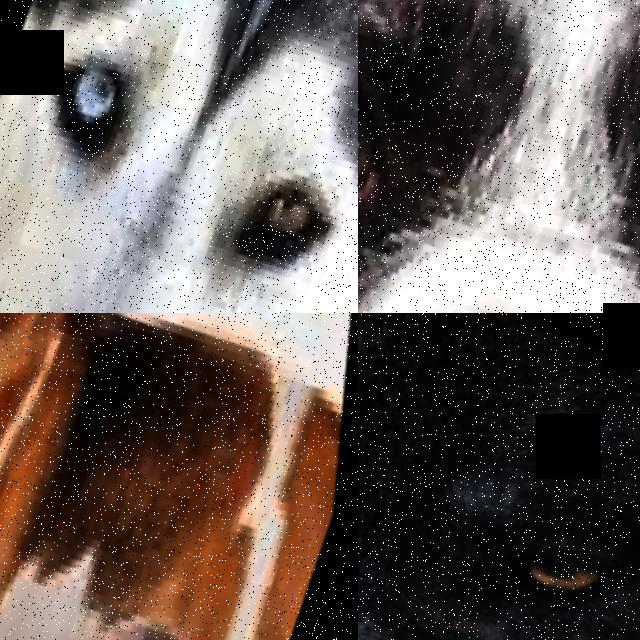dog: (0, 313, 358, 640), (0, 0, 358, 313), (358, 0, 640, 313)
wolf: (358, 313, 640, 640)
